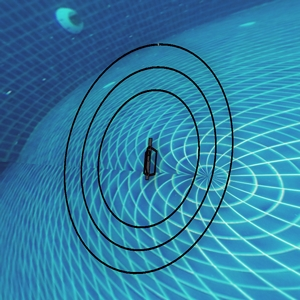circle: (50, 29, 249, 286)
